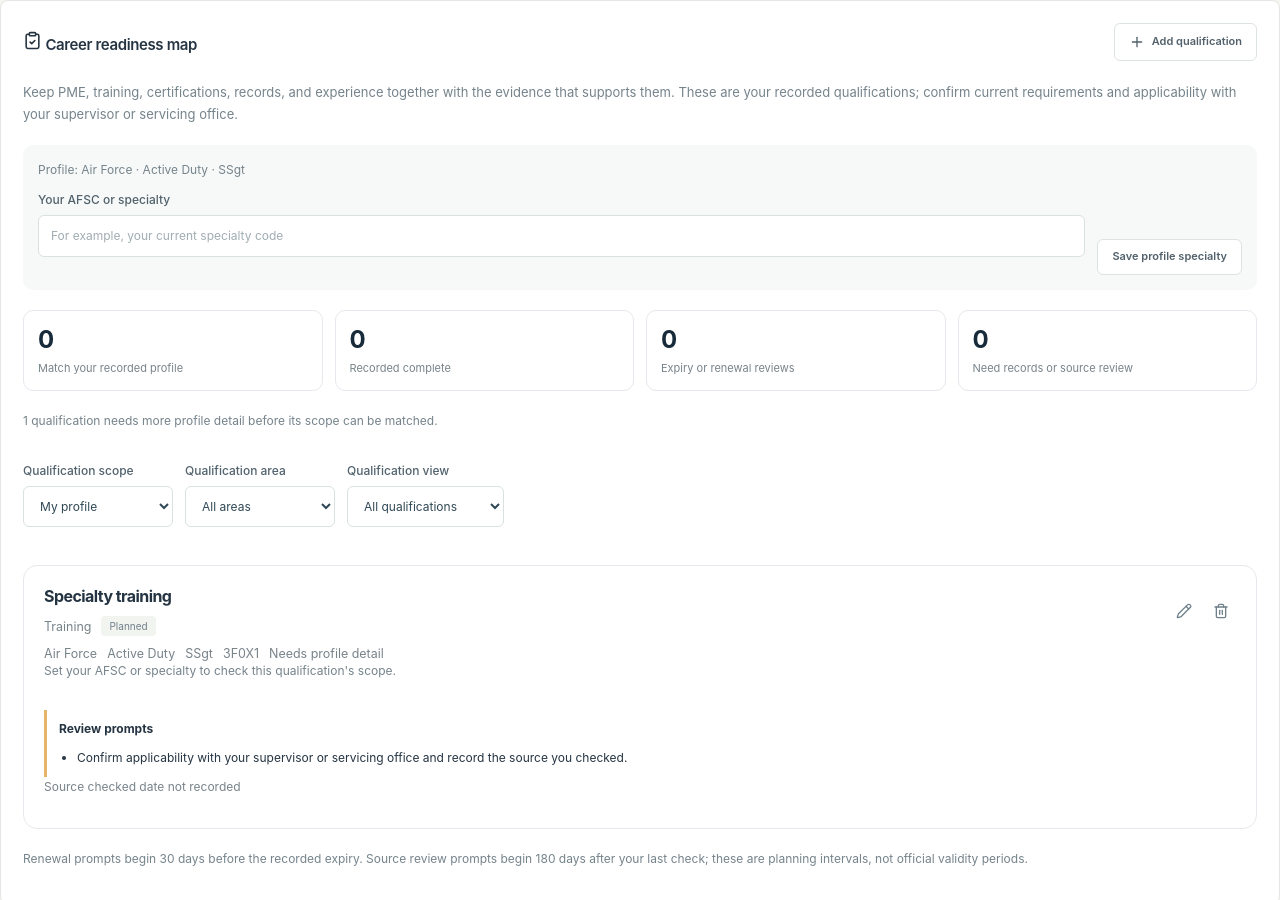
it: career readiness records › keeps unmatched qualifications accessible and explains unknown specialty scope
Expected: the element named "Qualification Specialty training" shows "Needs profile detail", [269,646,384,661]
Select "All scopes" in the dropdown labelled "Qualification scope": {"x": 98, "y": 507} [23,486,173,527]
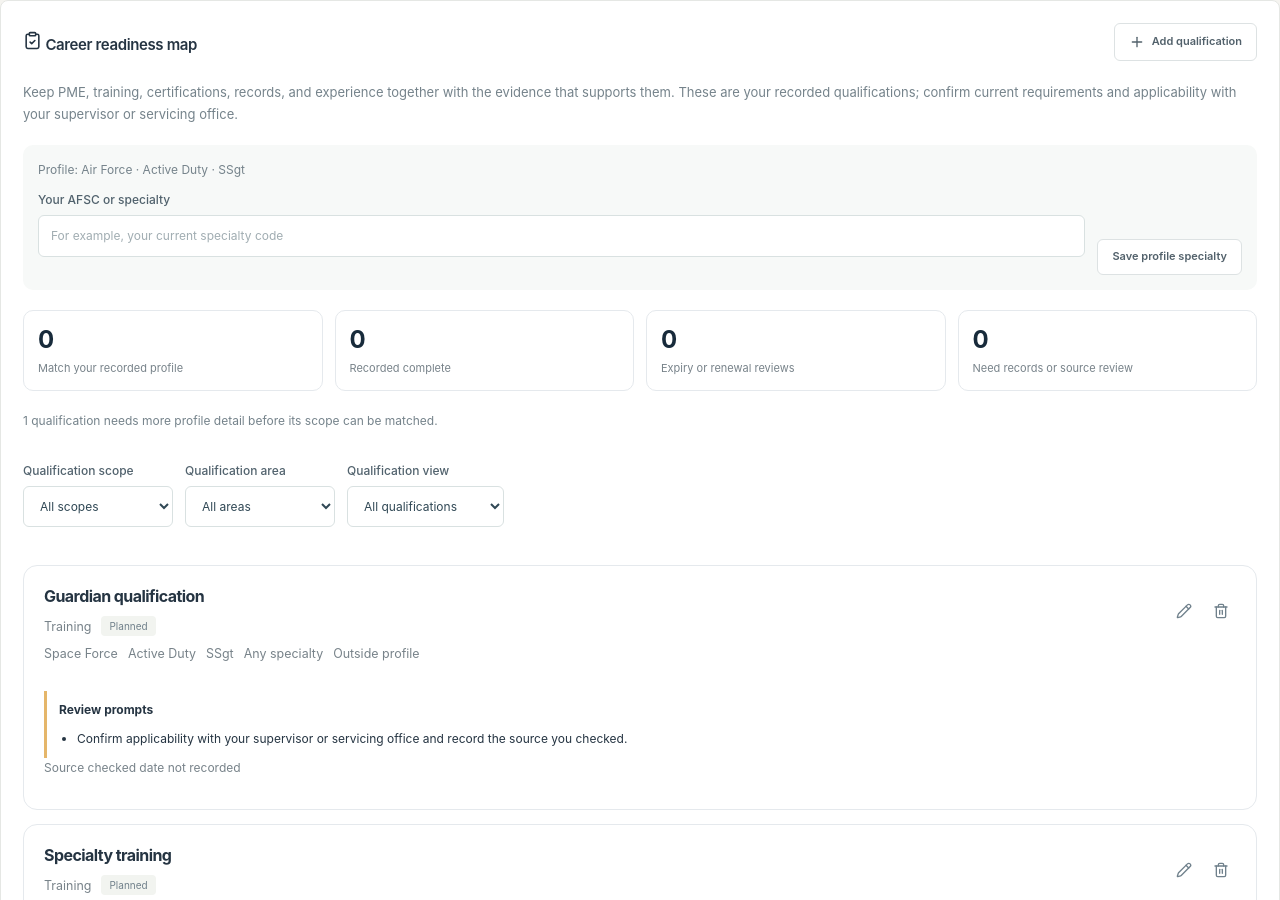
Now the element named "Qualification Guardian qualification" shows "Outside profile", box [333,646,420,661]
Select "My profile" in the dropdown labelled "Qualification scope": {"x": 98, "y": 507} [23,486,173,527]
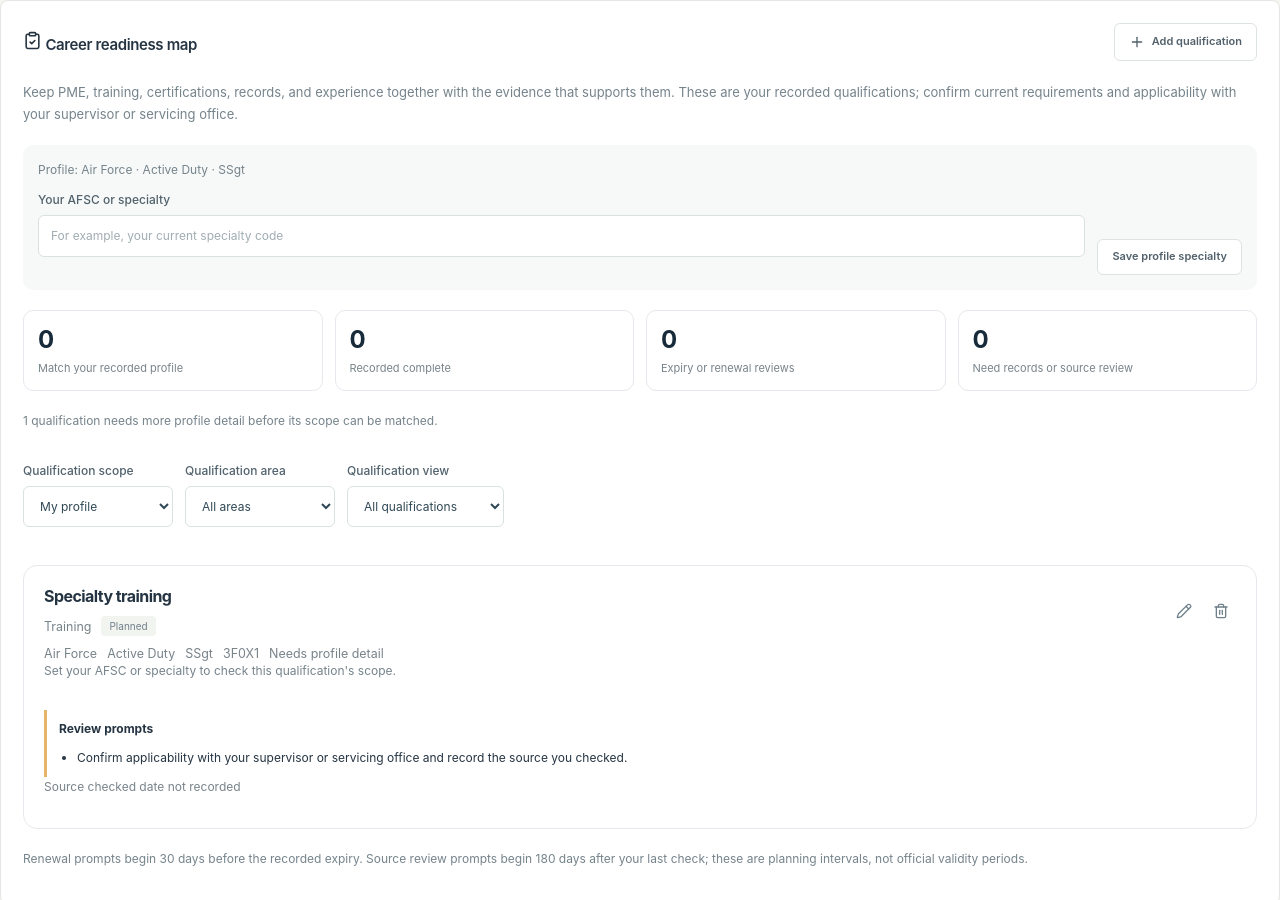
In the field labelled "Your AFSC or specialty": {"x": 562, "y": 236} [38,215,1086,257], type "3F051"
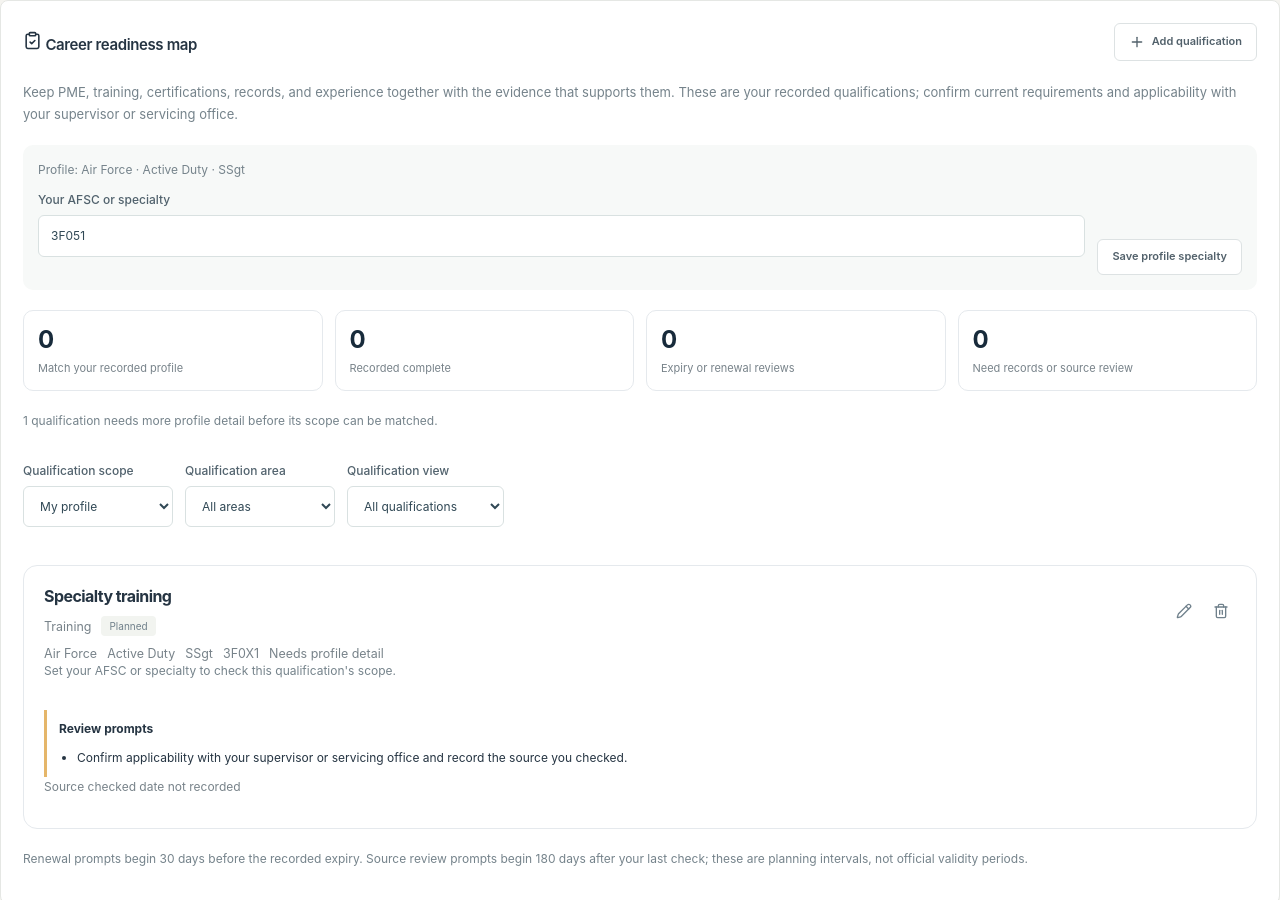
Click the button "Save profile specialty": {"x": 1170, "y": 257} [1098,239,1242,275]
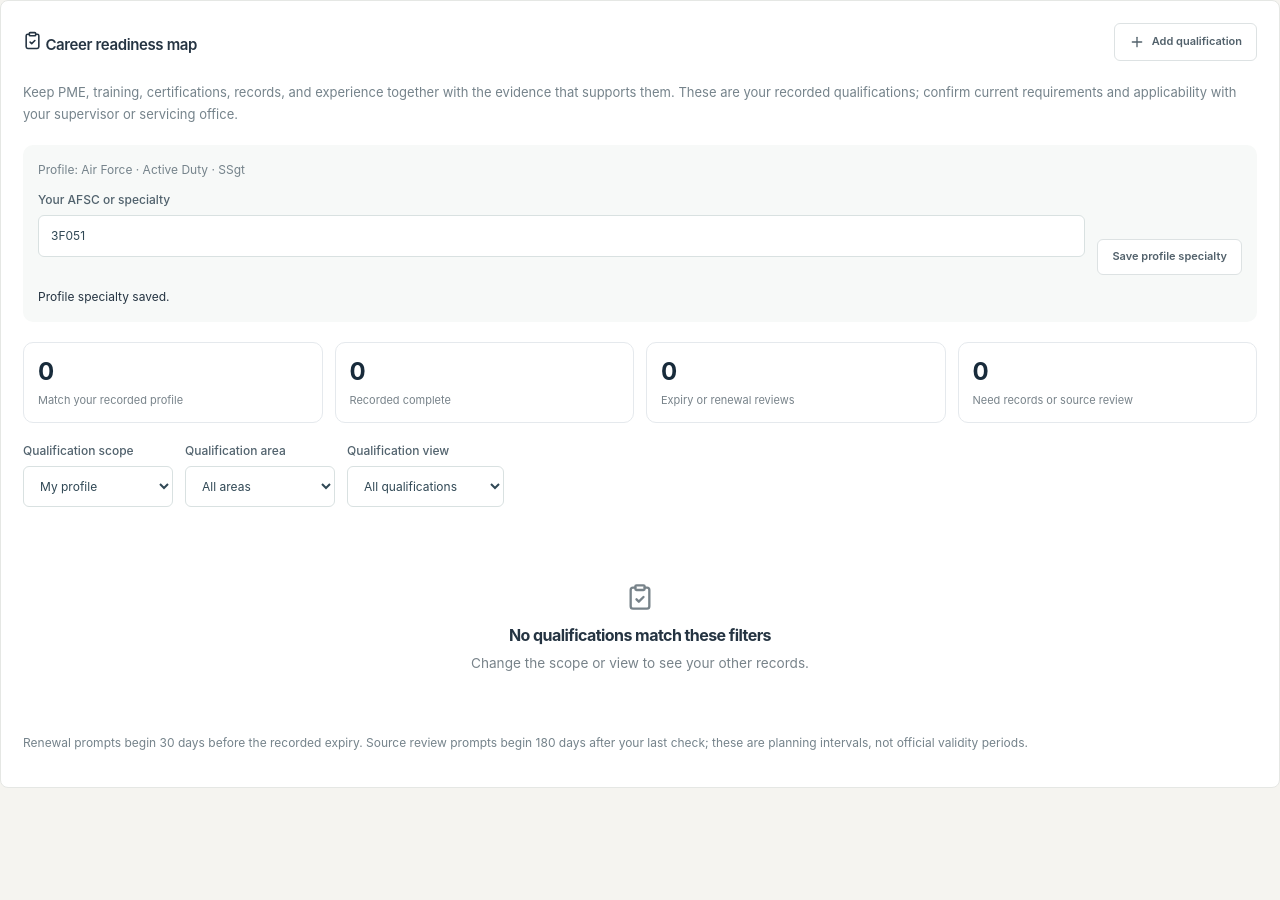
Replace the text in the field labelled "Your AFSC or specialty" with "3F0X1": {"x": 562, "y": 236} [38,215,1086,257]
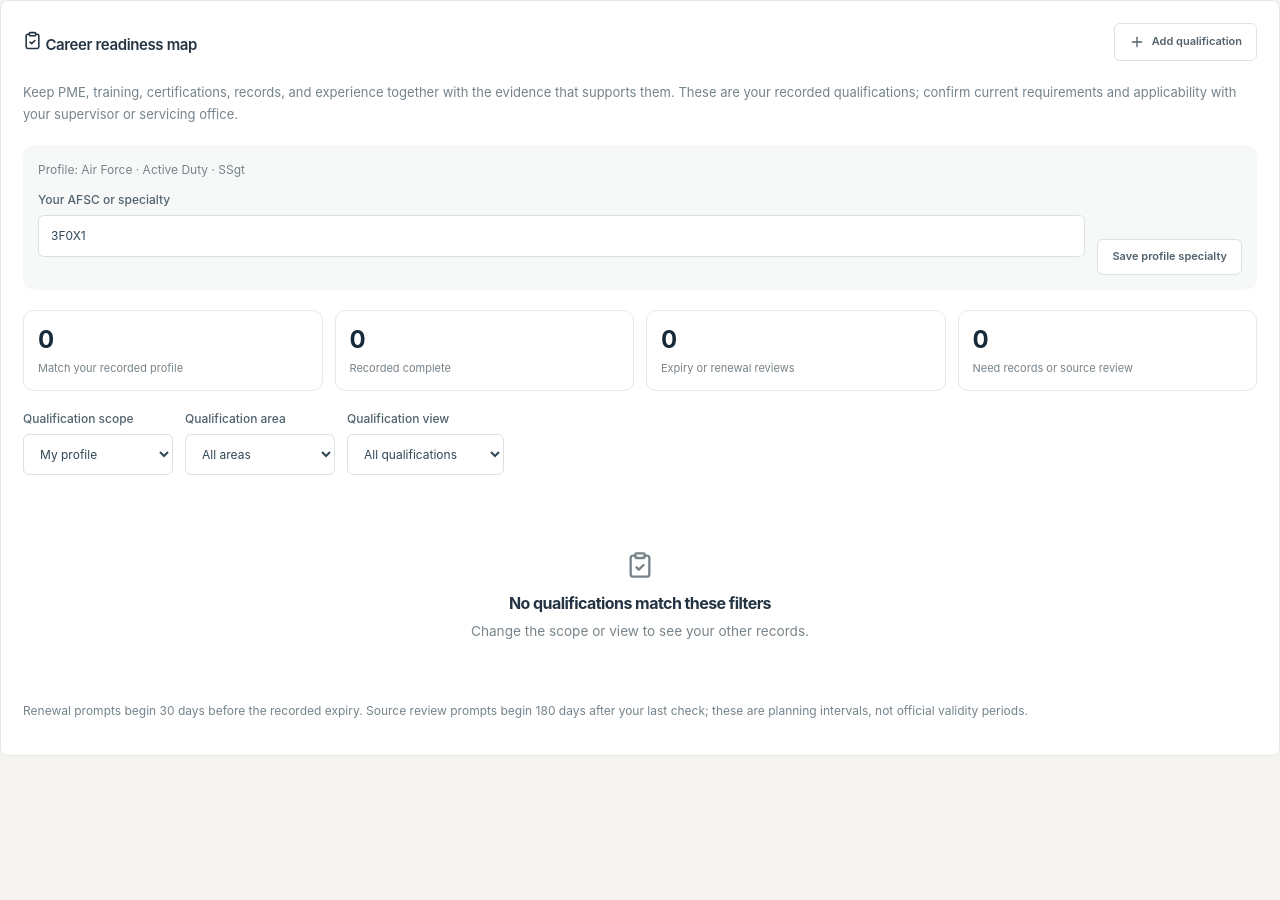
Click the button "Save profile specialty": {"x": 1170, "y": 257} [1098,239,1242,275]
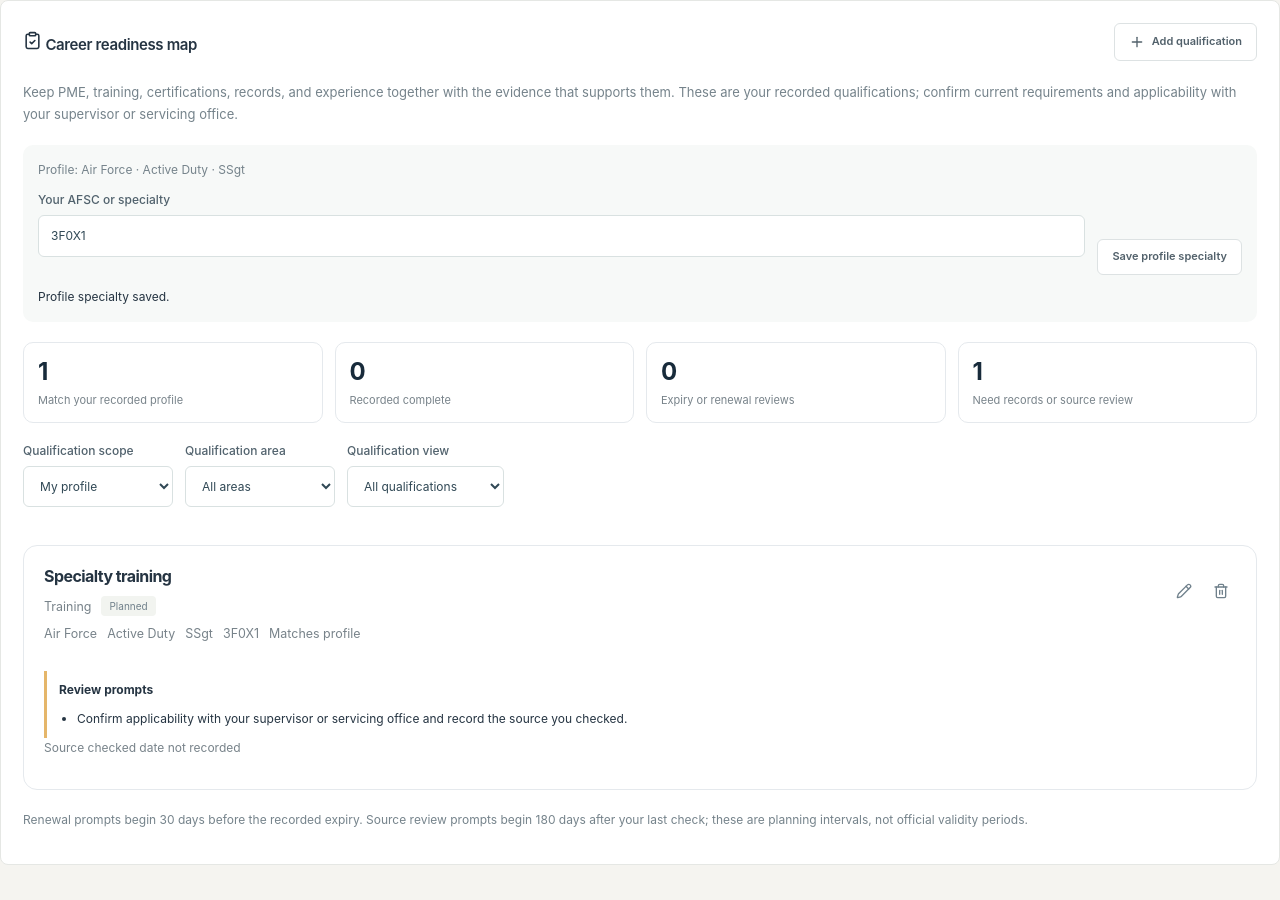
Now the element named "Qualification Specialty training" shows "Matches profile", box [269,626,361,641]
